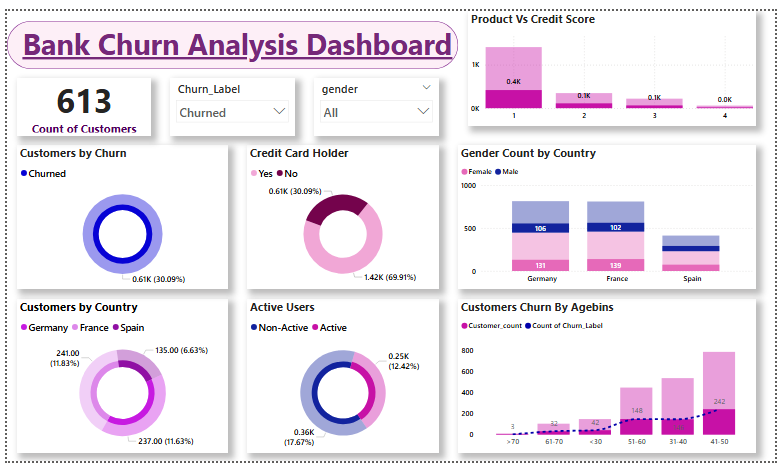

What the dashboard file says about the page in this screenshot:
{"tool":"powerbi","page":{"name":"Page 1","canvas":[1280,750],"ordinal":0},"visuals":[{"type":"textbox","box":[10,0,280,280],"z":0},{"type":"textbox","box":[48,48,272,272],"z":1000},{"type":"textbox","box":[0,16,768,80],"z":2000},{"type":"slicer","fields":{"Values":["Bank Data.Churn_Label"]},"box":[272,112,208,96],"z":3000},{"type":"donutChart","title":"Customers by Country ","fields":{"Y":["Bank Data.Customer_count"],"Category":["Bank Data.country"]},"box":[16,480,352,256],"z":4000},{"type":"donutChart","title":"Customers by Churn","fields":{"Category":["Bank Data.Churn_Label"],"Y":["Bank Data.Customer_count"]},"box":[16,224,352,240],"z":5000},{"type":"donutChart","title":"Credit Card Holder","fields":{"Y":["CountNonNull(Bank Data.credit_card_holder)"],"Category":["Bank Data.credit_card_holder"]},"box":[400,224,320,240],"z":6000},{"type":"donutChart","title":"Active Users","fields":{"Y":["CountNonNull(Bank Data.current_user)"],"Category":["Bank Data.current_user"]},"box":[400,480,320,256],"z":7000},{"type":"card","fields":{"Values":["Bank Data.Customer_count"]},"box":[16,112,224,96],"z":8000},{"type":"lineStackedColumnComboChart","title":"Customers Churn By Agebins","fields":{"Category":["Bank Data.age_bins"],"Y":["Bank Data.Customer_count"],"Y2":["CountNonNull(Bank Data.Churn_Label)"]},"box":[752,480,496,256],"z":9000},{"type":"columnChart","title":"Gender Count by Country","fields":{"Series":["Bank Data.gender"],"Category":["Bank Data.country"],"Y":["Bank Data.Count of Churn_Label total for Churn_Label"]},"box":[752,224,496,240],"z":10000},{"type":"columnChart","title":"Product Vs Credit Score","fields":{"Category":["Bank Data.products_number"],"Y":["CountNonNull(Bank Data.credit_score)"]},"box":[768,0,480,192],"z":11000},{"type":"slicer","fields":{"Values":["Bank Data.gender"]},"box":[512,112,208,96],"z":12000},{"type":"shape","box":[0,16,752,80],"z":13000}]}

Visuals, with their boxes in screenshot pixels (x1, y1, x2, y2), scaled from the page's 1280x750 canvas onto the 784x473 screenshot:
textbox: [left=6, top=0, right=178, bottom=177]
textbox: [left=29, top=30, right=196, bottom=202]
textbox: [left=0, top=10, right=470, bottom=61]
slicer - Bank Data.Churn_Label: [left=167, top=71, right=294, bottom=131]
"Customers by Country " donutChart: [left=10, top=303, right=225, bottom=464]
"Customers by Churn" donutChart: [left=10, top=141, right=225, bottom=293]
"Credit Card Holder" donutChart: [left=245, top=141, right=441, bottom=293]
"Active Users" donutChart: [left=245, top=303, right=441, bottom=464]
card - Bank Data.Customer_count: [left=10, top=71, right=147, bottom=131]
"Customers Churn By Agebins" lineStackedColumnComboChart: [left=461, top=303, right=764, bottom=464]
"Gender Count by Country" columnChart: [left=461, top=141, right=764, bottom=293]
"Product Vs Credit Score" columnChart: [left=470, top=0, right=764, bottom=121]
slicer - Bank Data.gender: [left=314, top=71, right=441, bottom=131]
shape: [left=0, top=10, right=461, bottom=61]
